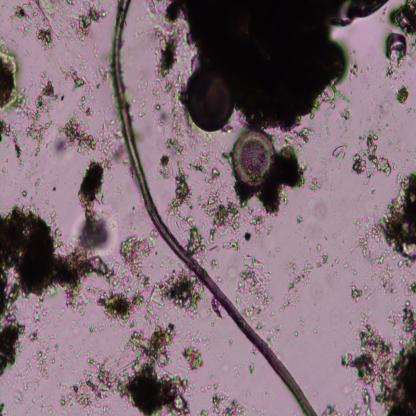Background material: (174, 0, 390, 132), (0, 204, 111, 380), (339, 305, 416, 415), (110, 316, 194, 415), (100, 230, 158, 325), (200, 185, 274, 251), (0, 78, 58, 162), (56, 110, 126, 166), (231, 253, 281, 331), (377, 169, 416, 263), (160, 136, 198, 232), (281, 245, 330, 312), (57, 354, 114, 411), (263, 152, 312, 218), (76, 163, 114, 248), (132, 79, 179, 133), (11, 0, 61, 50), (151, 32, 194, 88), (20, 334, 60, 392), (145, 275, 204, 314), (353, 130, 393, 184), (199, 382, 255, 416), (58, 61, 95, 110), (62, 6, 107, 46), (189, 151, 233, 186), (352, 213, 382, 259), (0, 42, 20, 108), (372, 264, 408, 296), (148, 1, 180, 36), (389, 0, 416, 40), (180, 338, 203, 372), (183, 225, 206, 256), (13, 176, 39, 200), (310, 159, 330, 190), (82, 323, 104, 340), (394, 84, 409, 108), (217, 351, 231, 375), (232, 355, 245, 379), (201, 338, 216, 358), (350, 284, 363, 304), (407, 281, 416, 298), (247, 360, 256, 376), (0, 164, 10, 171), (295, 330, 300, 338)
Diatom: (187, 67, 235, 131), (233, 130, 276, 187), (386, 32, 406, 56), (332, 144, 347, 160)
Hair textile: (111, 0, 315, 414)
